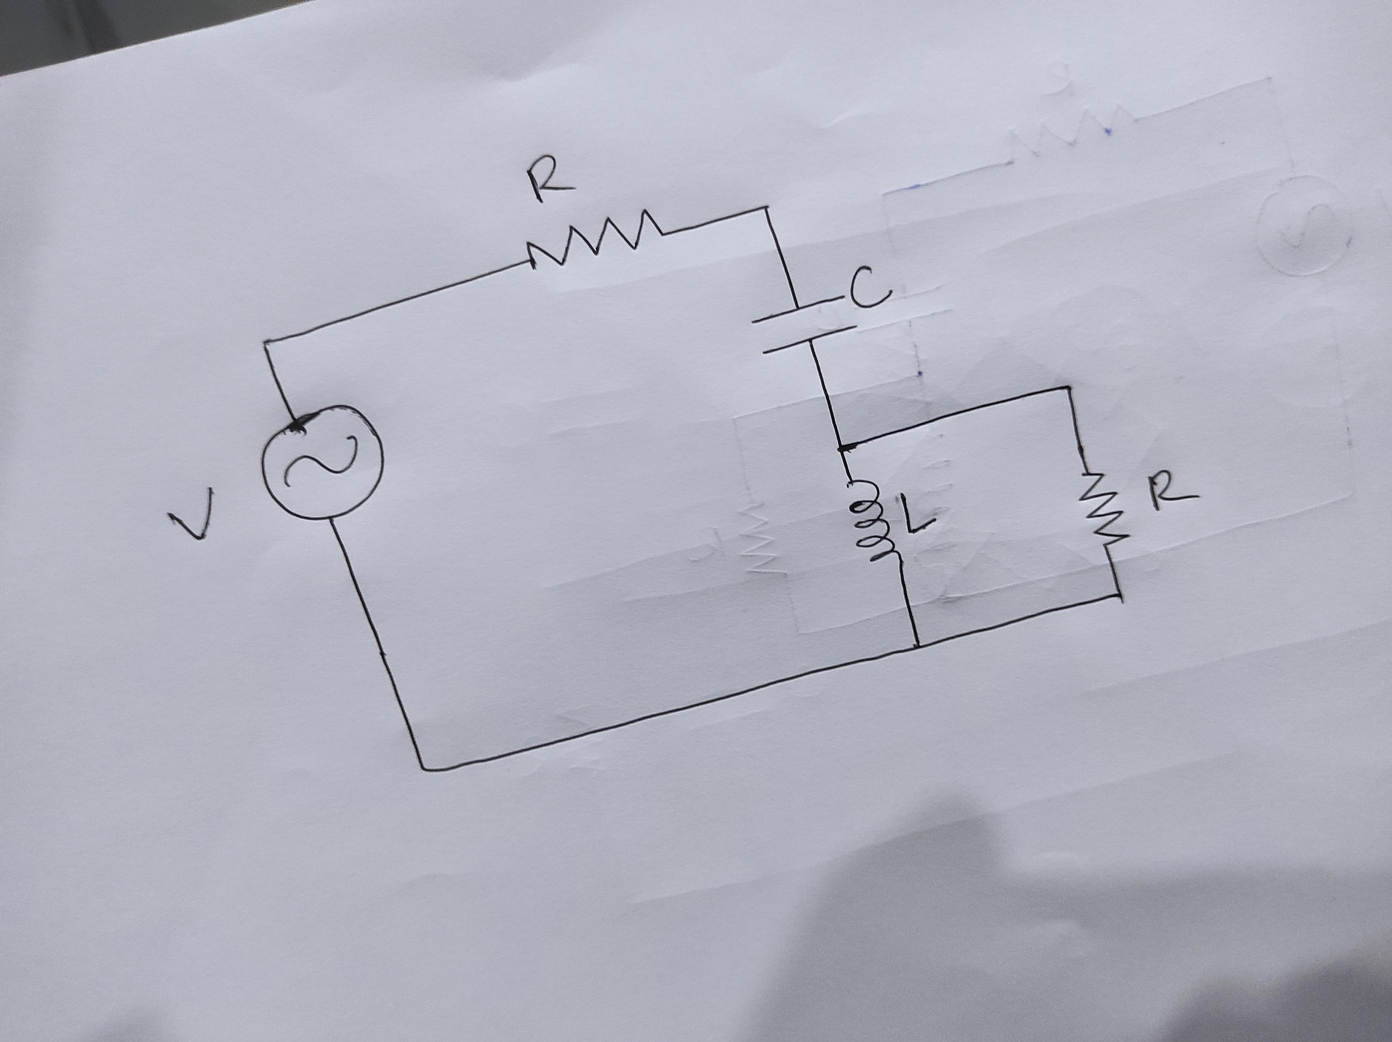capacitor.unpolarized: (747, 293, 860, 359)
inductor: (843, 476, 906, 565)
junction: (1053, 375, 1082, 404), (1105, 583, 1134, 609), (830, 435, 858, 459), (751, 196, 780, 218), (906, 635, 929, 659), (254, 333, 279, 354), (411, 761, 436, 778)
resistor: (521, 206, 668, 275), (1075, 458, 1132, 553)
text: (162, 484, 216, 544), (524, 151, 577, 207), (1144, 466, 1198, 512), (847, 260, 894, 311), (897, 488, 940, 537)
voltage.dc_ac: (254, 400, 388, 526)
